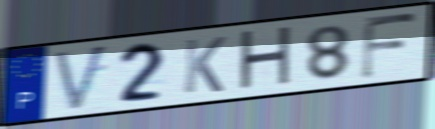2: (115, 39, 168, 107)
8: (303, 24, 356, 82)
F: (358, 11, 421, 82)
H: (236, 23, 295, 95)
K: (180, 34, 228, 96)
V: (51, 41, 111, 114)
